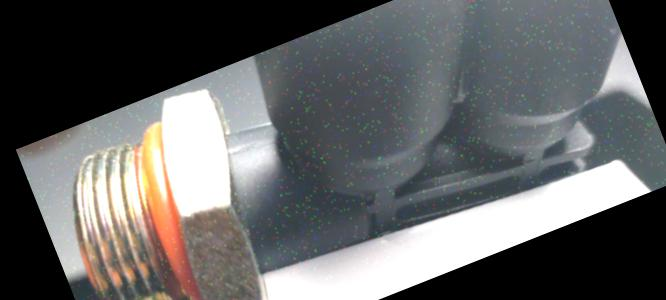joint line: (255, 137, 278, 150)
white mark: (227, 134, 260, 154)
